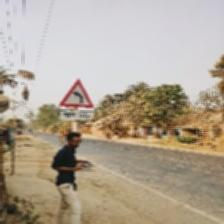Left-Turn: (57, 79, 95, 124)
